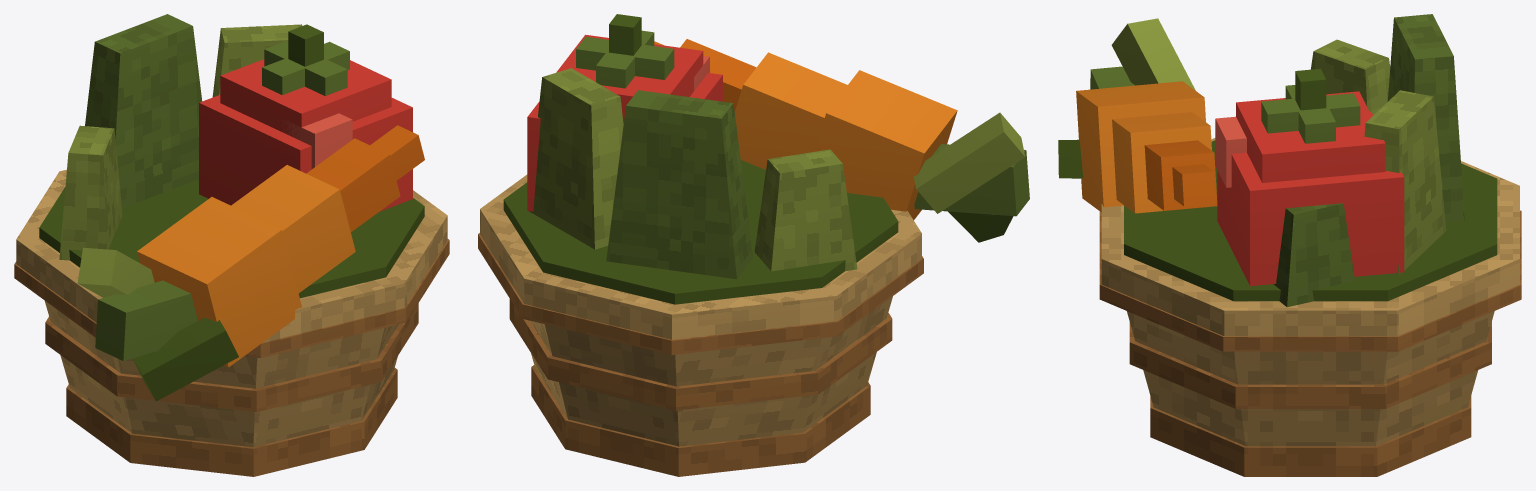
The model's file is res_bio.glb.
The picture shows the model from 3 angles, left to right: view 1: azimuth 30°, elevation 25°; view 2: azimuth 150°, elevation 25°; view 3: azimuth 270°, elevation 25°; orthographic projection. The views are drawn at different scales.
Parts seen in each view (by area): view 1: res_bio; view 2: res_bio; view 3: res_bio.
Boxes of the visible parts, <box> form: res_bio: <box>14,14,449,476</box>; res_bio: <box>478,14,1029,476</box>; res_bio: <box>1058,14,1521,476</box>.
Bounding box in the file's own units: 1.22 × 1.01 × 1.15.
Materials: 11 (4 with a texture image).
